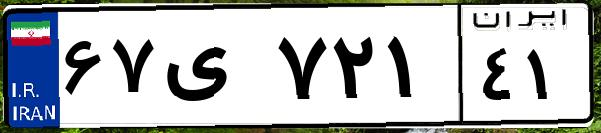1: (385, 28, 445, 110), (525, 38, 570, 115)
2: (330, 28, 385, 110)
4: (475, 38, 525, 113)
6: (57, 26, 110, 100)
7: (270, 28, 330, 110), (110, 28, 158, 98)
ی: (158, 20, 270, 120)
